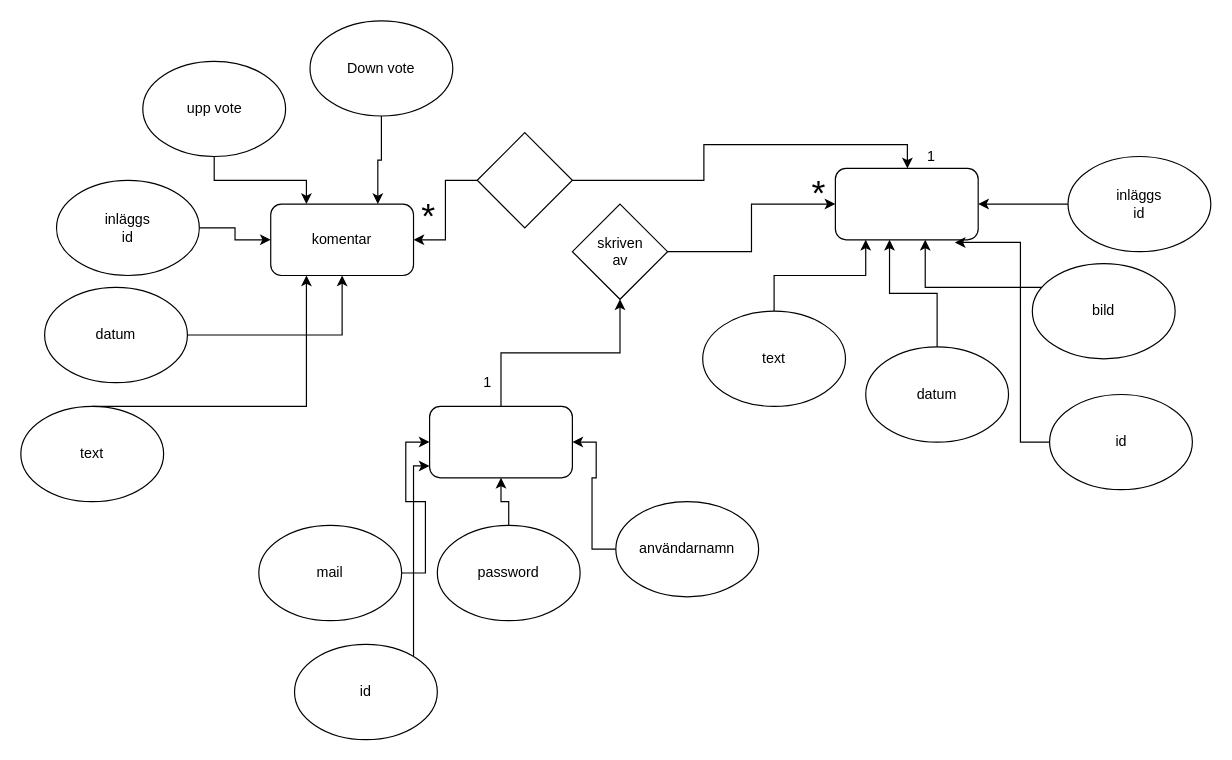
The diagram is 1232 pixels wide and 760 high, and some of its shapes have lost their labels. Each missing label, with the box of its shape:
Användare: (428, 405, 572, 478)
inlägg: (834, 167, 978, 240)
komenterad i: (476, 131, 572, 228)
